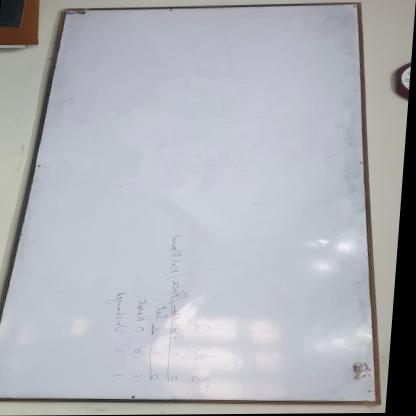Handwritten text: (187, 321, 221, 385), (106, 286, 137, 336), (163, 232, 190, 274), (168, 306, 192, 342), (134, 297, 155, 324), (165, 281, 194, 299), (155, 305, 173, 323)
Whiteboard: (0, 2, 385, 407)
